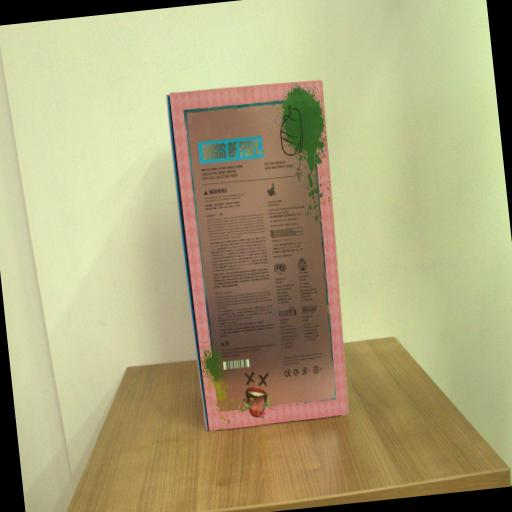Harley: (166, 75, 358, 432)
